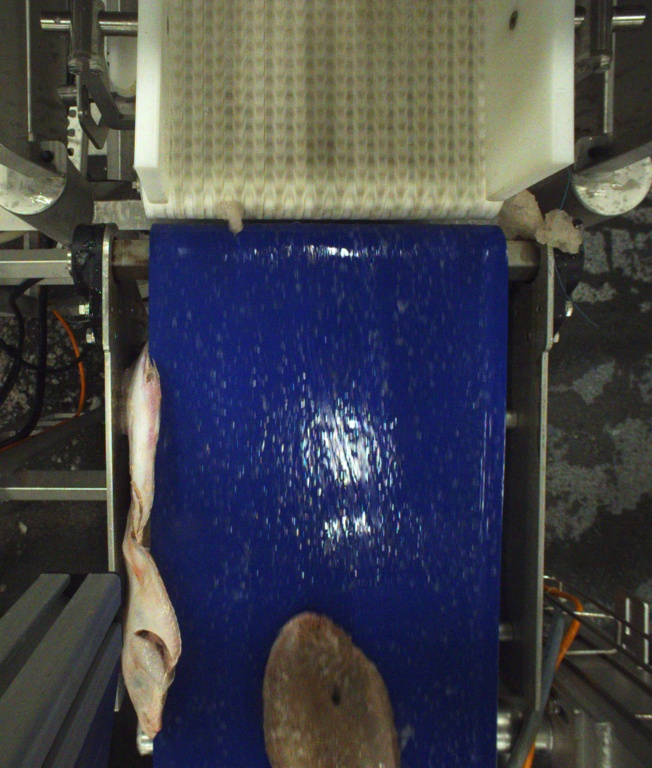SOL: (258, 608, 401, 768)
